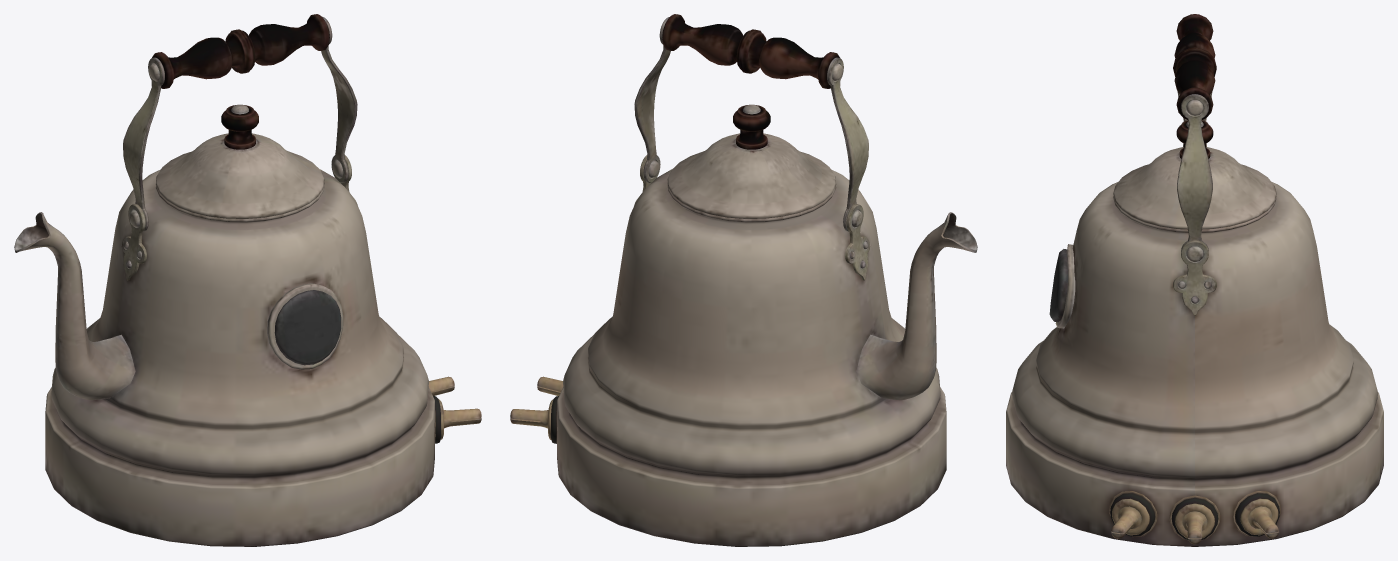
3 views of the same model, side by side, from view 1: azimuth 30°, elevation 25°; view 2: azimuth 150°, elevation 25°; view 3: azimuth 270°, elevation 25° (orthographic). The views are drawn at different scales.
Parts seen in each view (by area): view 1: vintage_electric_kettle; view 2: vintage_electric_kettle; view 3: vintage_electric_kettle.
Part boxes in pixels (x1,y1,x2,y2): vintage_electric_kettle: (14,14,481,546); vintage_electric_kettle: (510,14,977,546); vintage_electric_kettle: (1006,14,1383,546).
Size of the model in its own units: 0.3209 by 0.3047 by 0.2486.
Materials: 2 (2 with a texture image).
